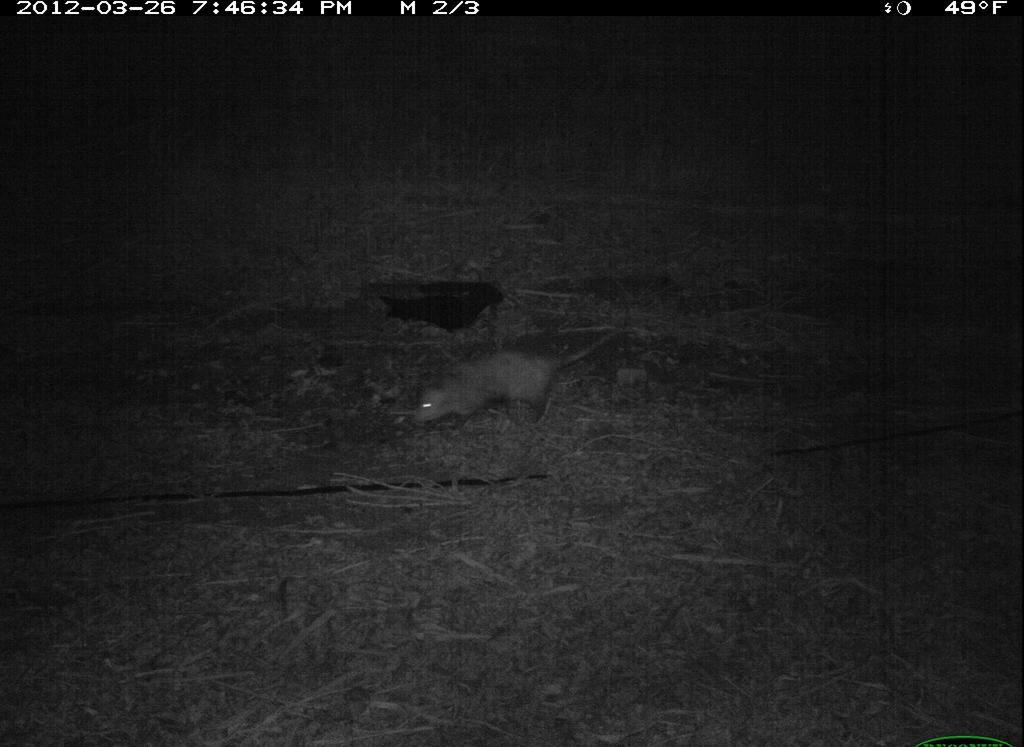opossum: (391, 331, 617, 450)
